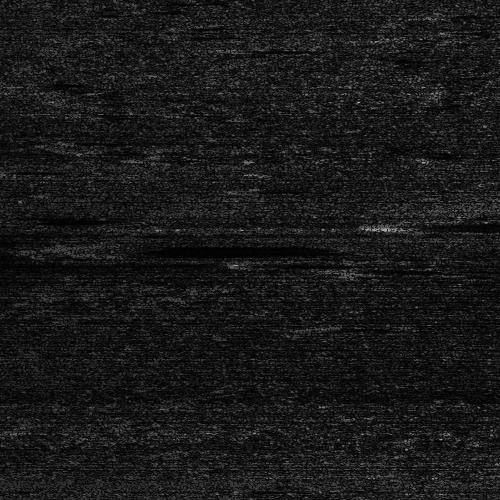rock: (13, 241, 148, 254), (0, 214, 52, 223), (223, 261, 296, 266), (320, 268, 383, 273)
shadow: (81, 241, 271, 254), (11, 214, 98, 223), (352, 268, 438, 273), (260, 261, 341, 266)
